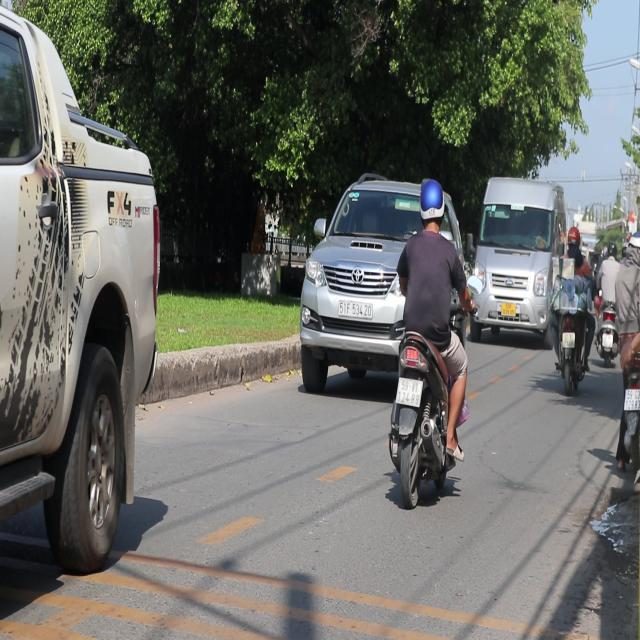helmet: (417, 177, 445, 229)
licenseplate: (384, 174, 472, 506), (544, 222, 593, 394)
nohelmet: (396, 376, 422, 406), (624, 389, 640, 410), (562, 331, 575, 347)
